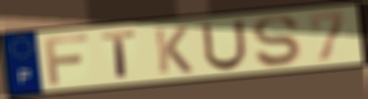7: (307, 10, 347, 64)
F: (42, 33, 92, 87)
K: (151, 25, 195, 76)
S: (251, 14, 301, 69)
T: (99, 29, 139, 80)
U: (199, 18, 248, 72)
